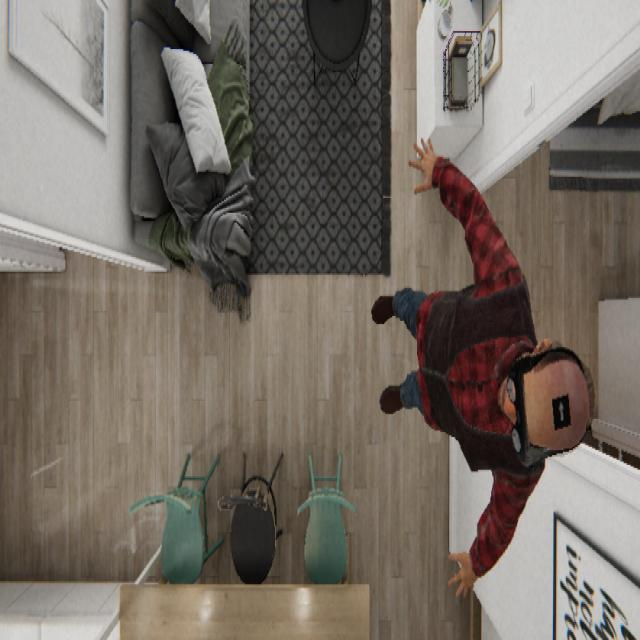Human: (370, 134, 596, 599)
UnityLogo: (551, 390, 572, 430)
